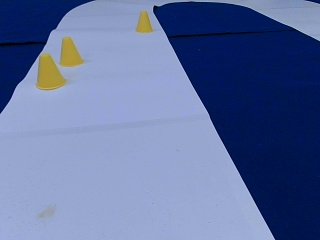cone: (35, 54, 65, 89), (58, 37, 83, 66), (136, 11, 152, 32)
